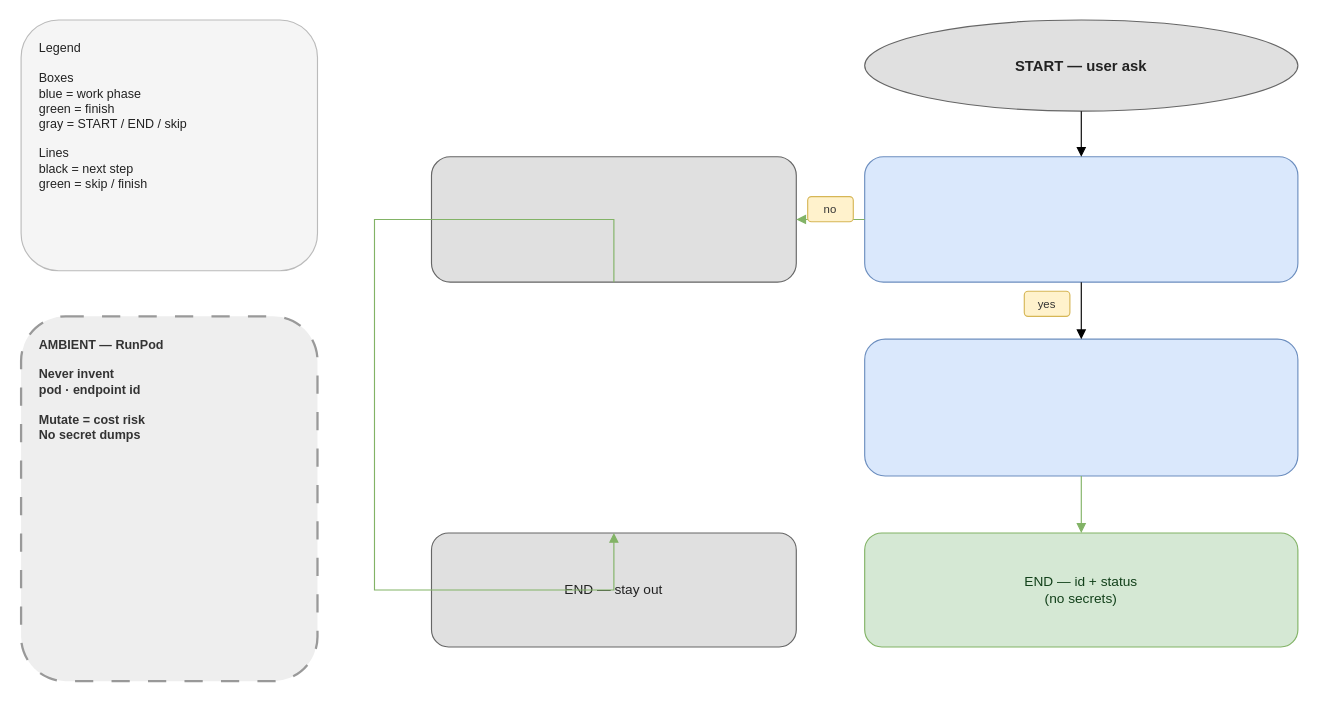
This 1318x702 diagram has some shape labels left out. The shapes that lost their labels are listed below. From the top down, each one's centre as x and y in pixels, then its label:
the point at 613,219: skip — no RunPod ordinary coding
the point at 1081,219: gate · RunPod? GPU cloud / pod / endpoint ask
the point at 1081,407: inventory first create/start/stop/delete only with explicit verb
